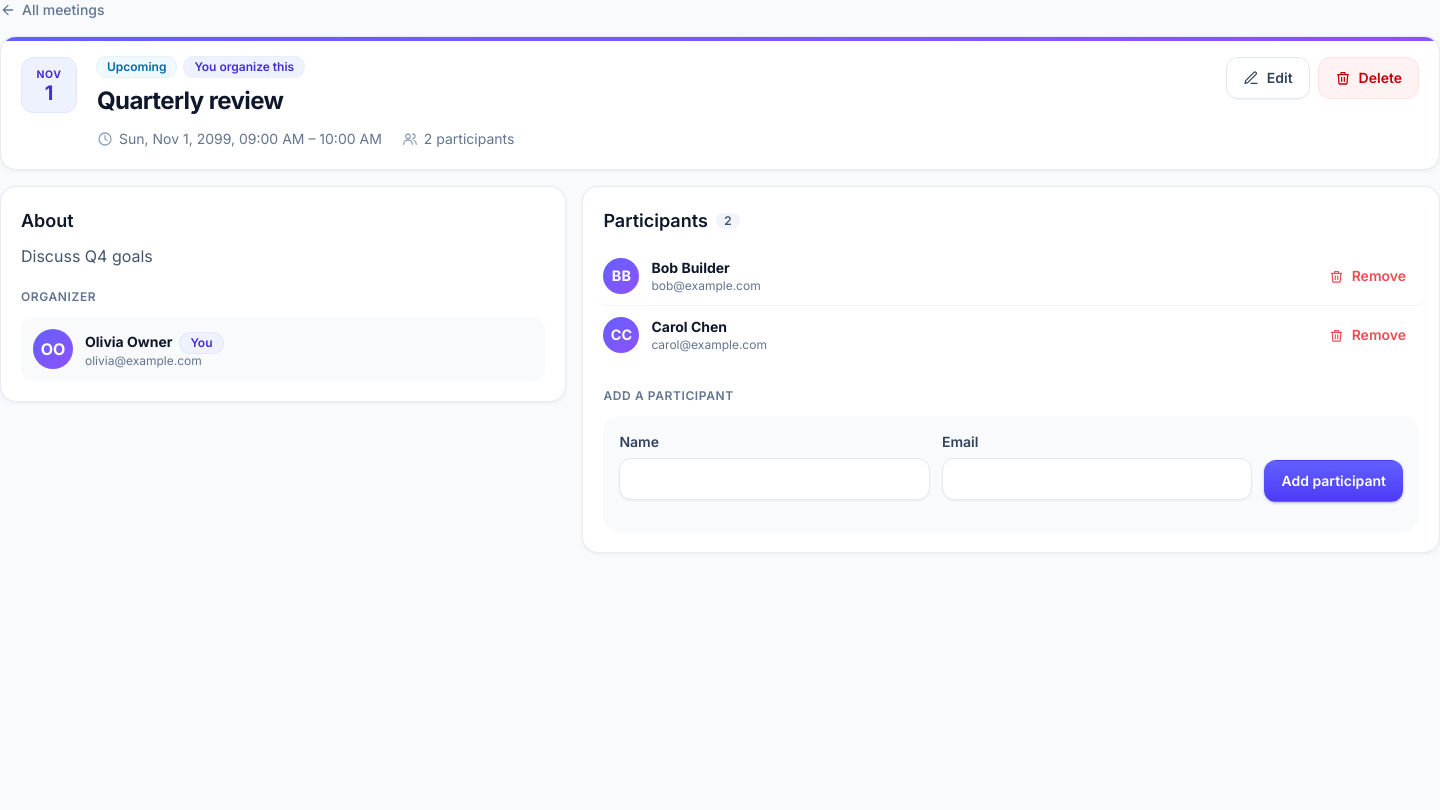
Test case: MeetingDetailPage › shows a friendly message when deleting fails on the server
Expected: the heading "Quarterly review" is shown, [97,86,283,115]
Click the button "Delete".
click(1368, 78)  # box [1318,57,1419,99]
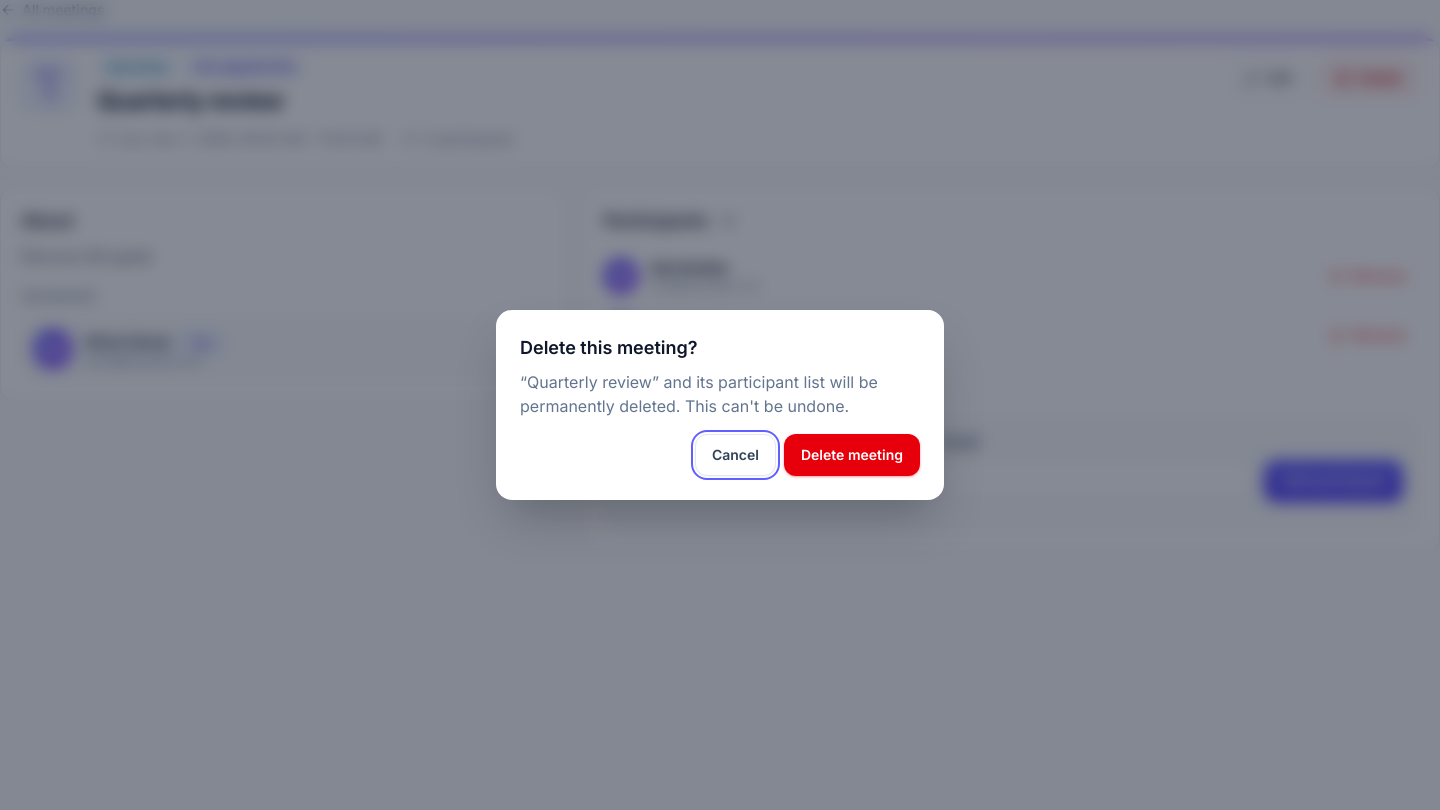
Click the button "Delete meeting".
click(852, 455)  # box [784,434,920,476]
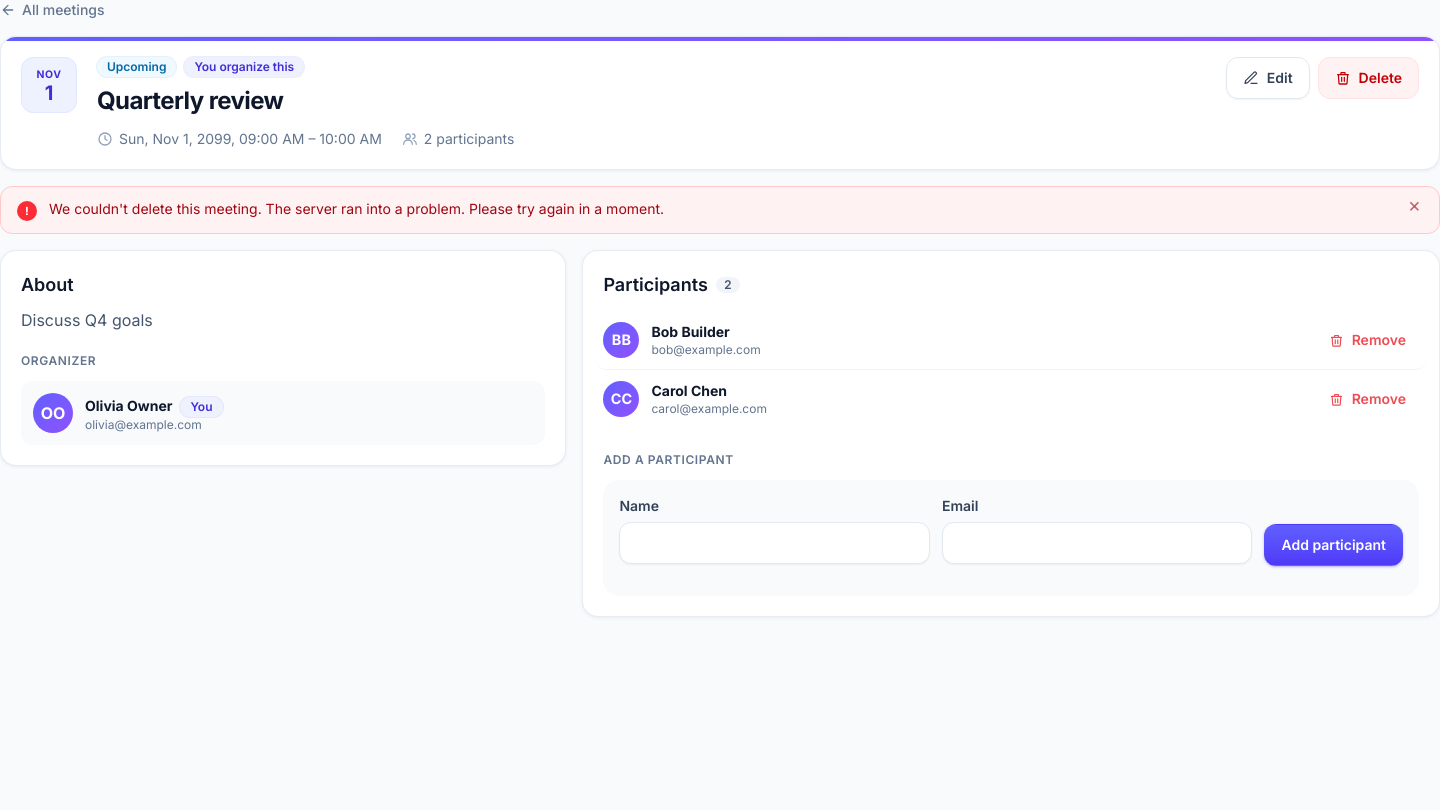
Expected: the message does not show "SQL error", [0,186,1439,234]
Result: the message shows "We couldn't delete this meeting." at [49,200,664,217]
